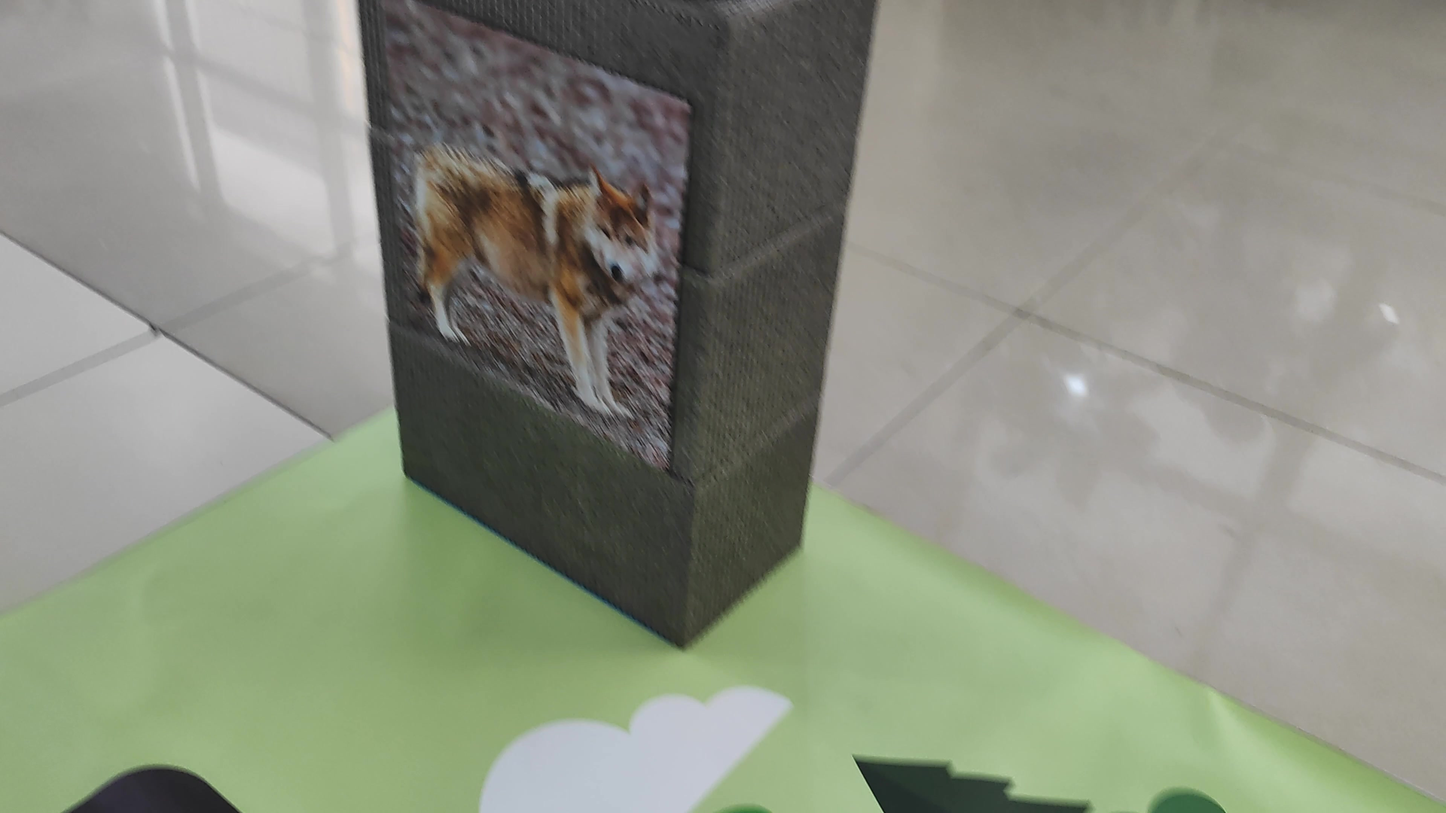wolf: (378, 100, 710, 380)
